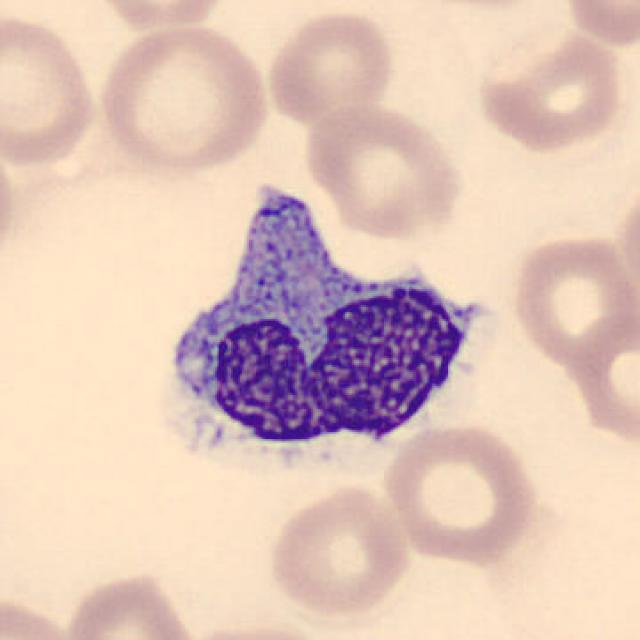Monocyte: (144, 173, 496, 481)
RBC: (92, 19, 274, 178), (300, 98, 468, 242), (378, 420, 540, 568), (265, 481, 414, 619), (475, 28, 629, 155), (506, 231, 636, 370), (262, 5, 398, 127), (0, 9, 101, 171), (58, 567, 202, 640), (568, 303, 640, 445), (83, 0, 232, 33), (0, 590, 85, 640), (556, 0, 639, 49), (176, 620, 336, 640), (0, 128, 21, 275), (614, 180, 638, 303), (400, 0, 562, 14)
